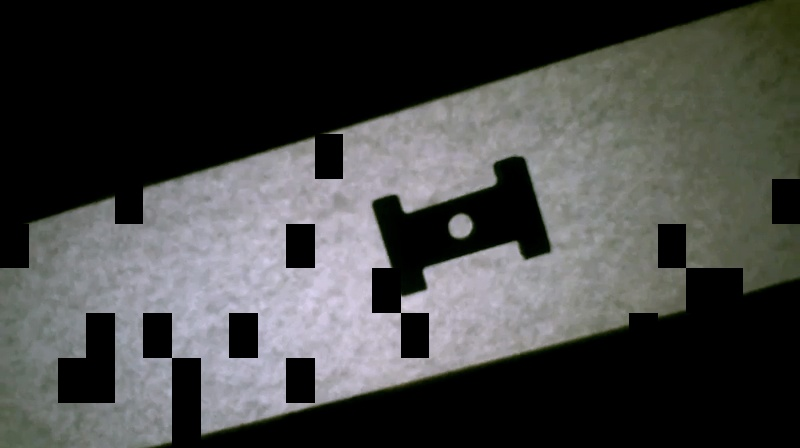O002: (365, 153, 551, 298)
